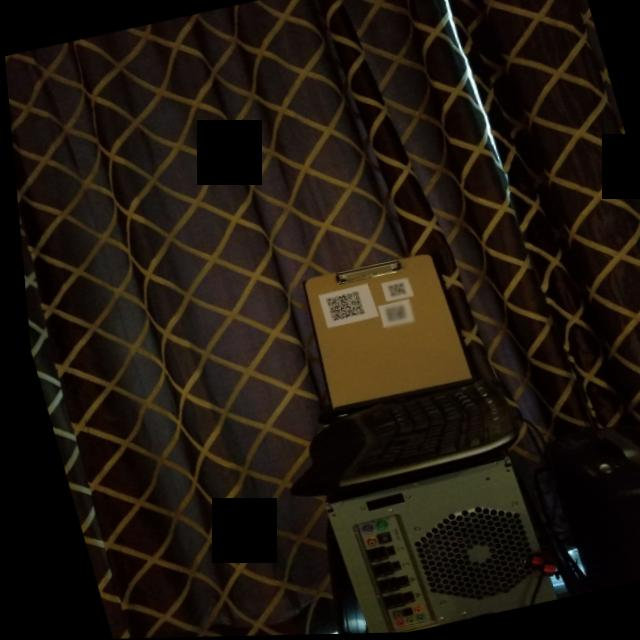QR_CODE: (311, 285, 367, 326), (374, 301, 414, 332), (377, 278, 409, 302)
